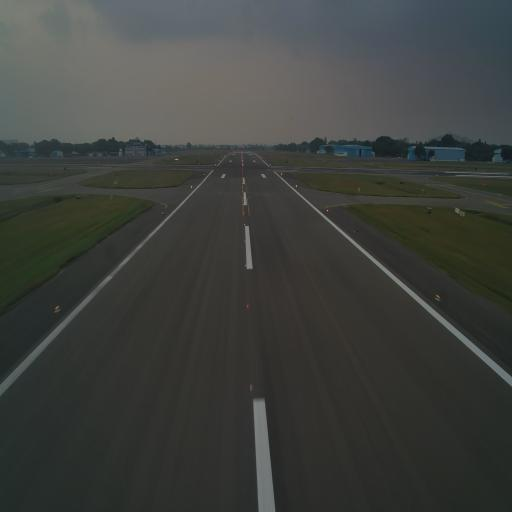on: (435, 291, 442, 307), (248, 382, 255, 393), (54, 302, 60, 312), (245, 302, 250, 311), (244, 262, 250, 269)
